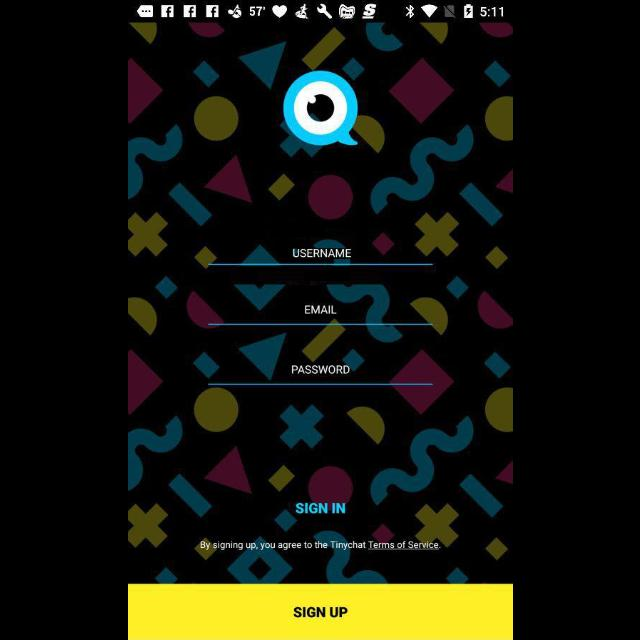backgroundimage: (128, 23, 512, 583)
image: (283, 71, 357, 147)
input: (208, 304, 432, 326), (207, 365, 433, 385), (207, 250, 433, 266)
text: (200, 540, 440, 550), (295, 502, 345, 514), (292, 250, 351, 258), (292, 366, 348, 374), (304, 306, 336, 314)
textbutton: (128, 584, 512, 640)
uppertaskbar: (128, 1, 512, 23)
